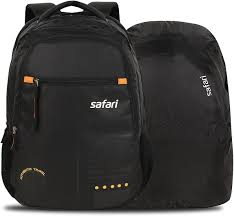backpack: (0, 0, 153, 211)
